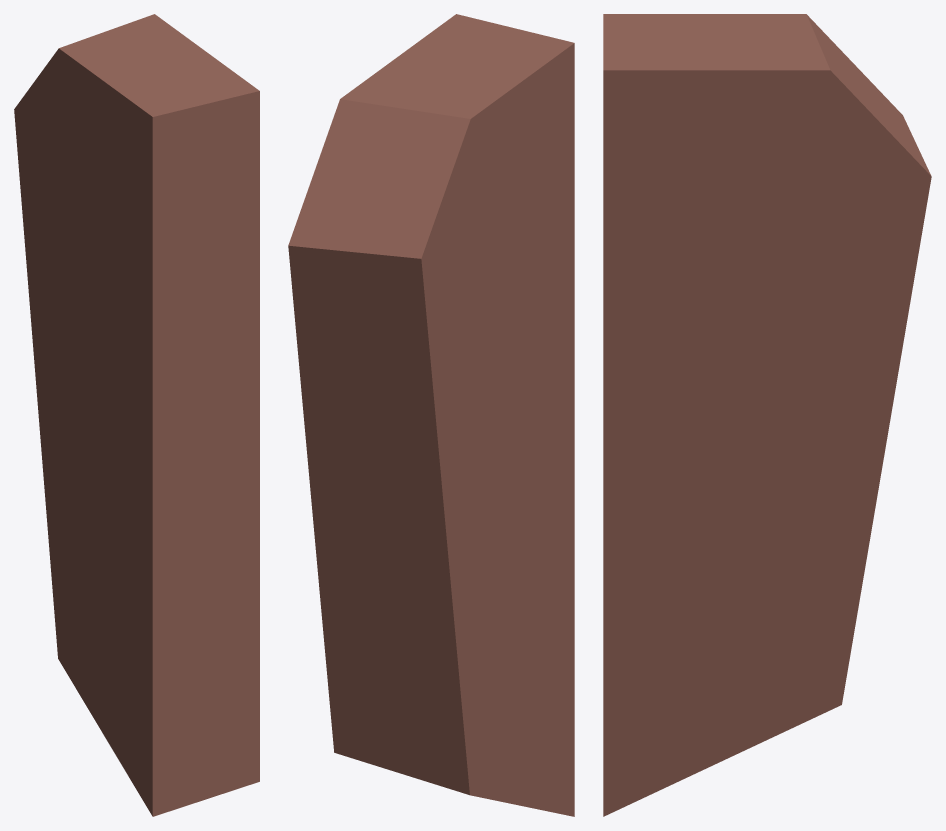
File: T_MurDetruit_7.1.fbx
3 renders of one model, left to right at view 1: azimuth 30°, elevation 25°; view 2: azimuth 150°, elevation 25°; view 3: azimuth 270°, elevation 25°, orthographic. The views are drawn at different scales.
Parts seen in each view (by area): view 1: T_MurDetruit_7.1; view 2: T_MurDetruit_7.1; view 3: T_MurDetruit_7.1.
Part boxes in pixels (x1,y1,x2,y2): T_MurDetruit_7.1: (14,14,259,816); T_MurDetruit_7.1: (288,14,574,816); T_MurDetruit_7.1: (603,14,931,816).
Size of the model in its own units: 13.48 by 84.19 by 33.13.
